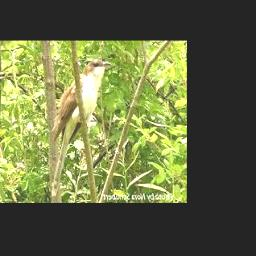Cuckoo: (52, 58, 112, 197)
